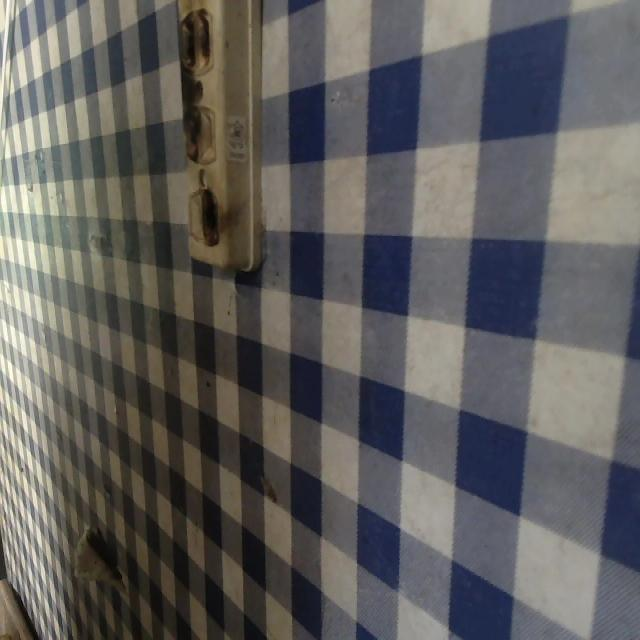-: (174, 6, 215, 74), (199, 183, 223, 252), (182, 97, 204, 164)
